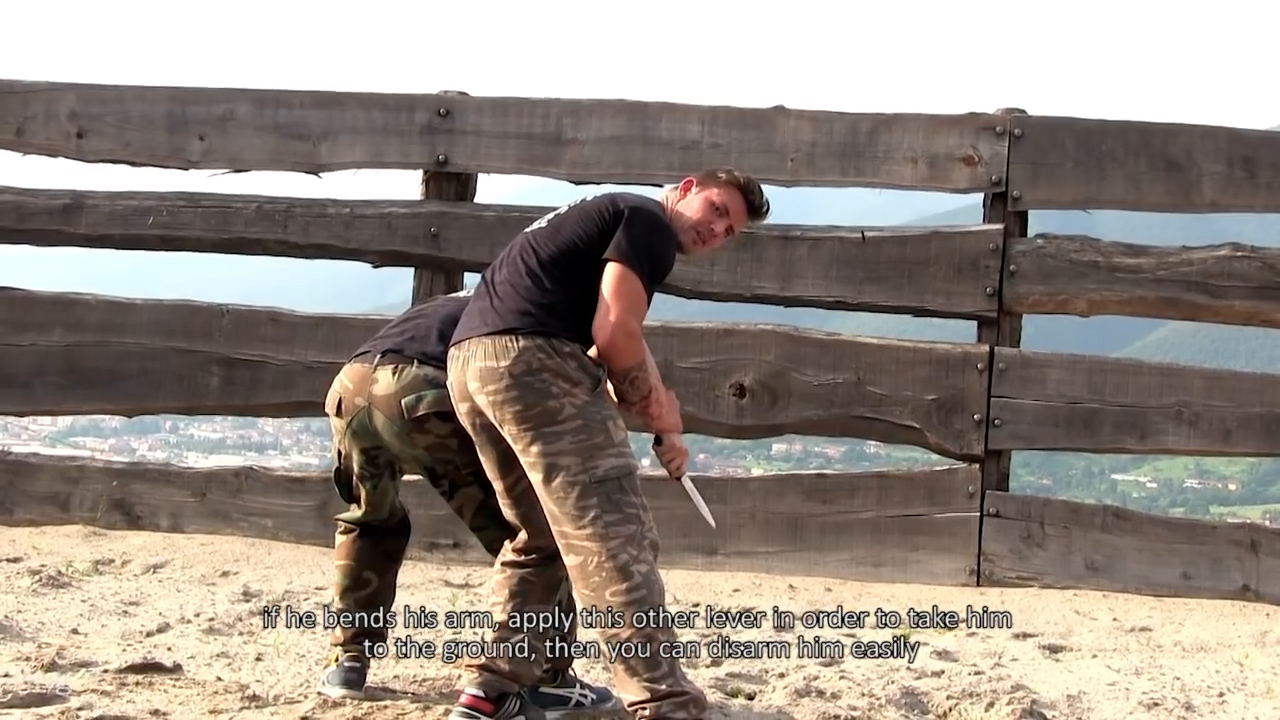knife: (649, 435, 724, 539)
